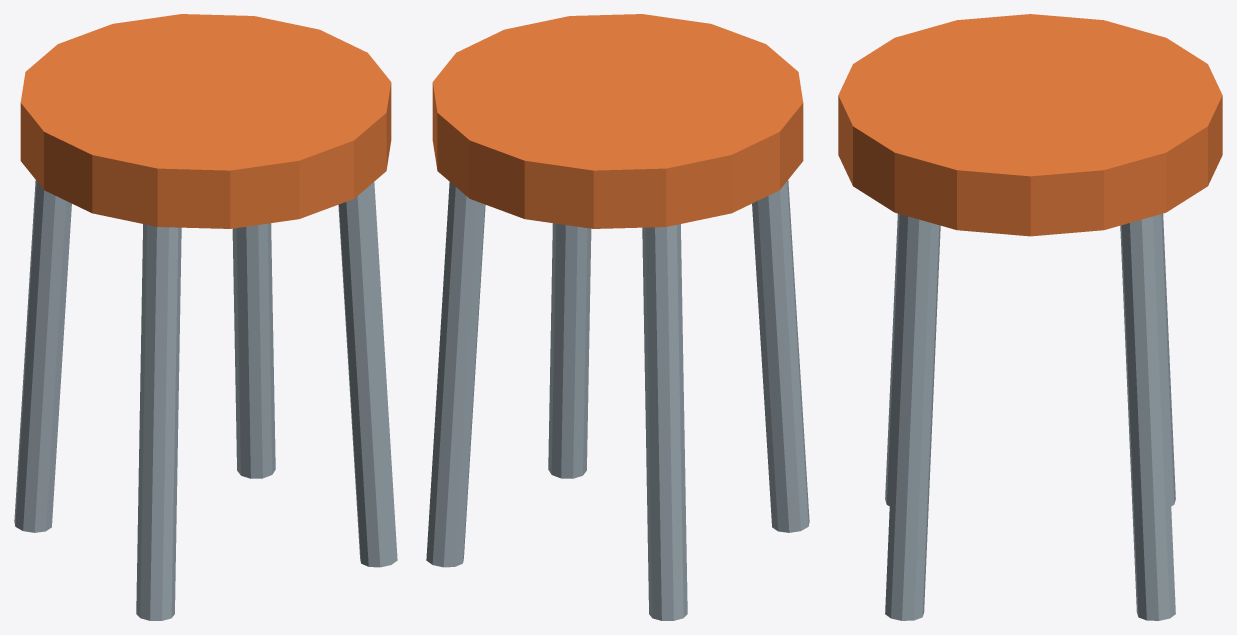
The model's file is Bar_Stool.glb.
3 renders of one model, left to right at view 1: azimuth 30°, elevation 25°; view 2: azimuth 150°, elevation 25°; view 3: azimuth 270°, elevation 25°, orthographic. The views are drawn at different scales.
Parts seen in each view (by area): view 1: Bar_Stool; view 2: Bar_Stool; view 3: Bar_Stool.
Part boxes in pixels (x1,y1,x2,y2): Bar_Stool: (14, 14, 397, 620); Bar_Stool: (426, 14, 809, 620); Bar_Stool: (838, 14, 1222, 620).
Bounding box in the file's own units: 0.58 × 0.7717 × 0.58.
